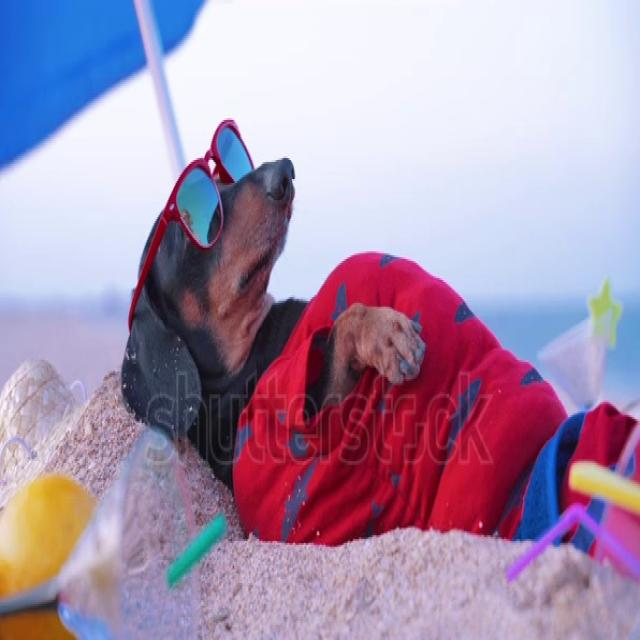injured-animals: (116, 114, 637, 585)
